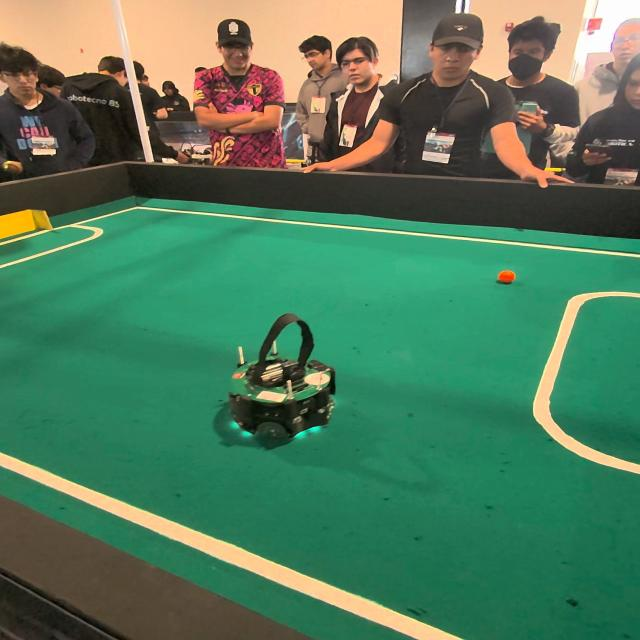Robot: (221, 302, 346, 458)
pelota: (489, 266, 523, 291)
